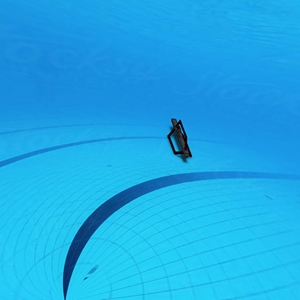submarine: (167, 117, 197, 160)
